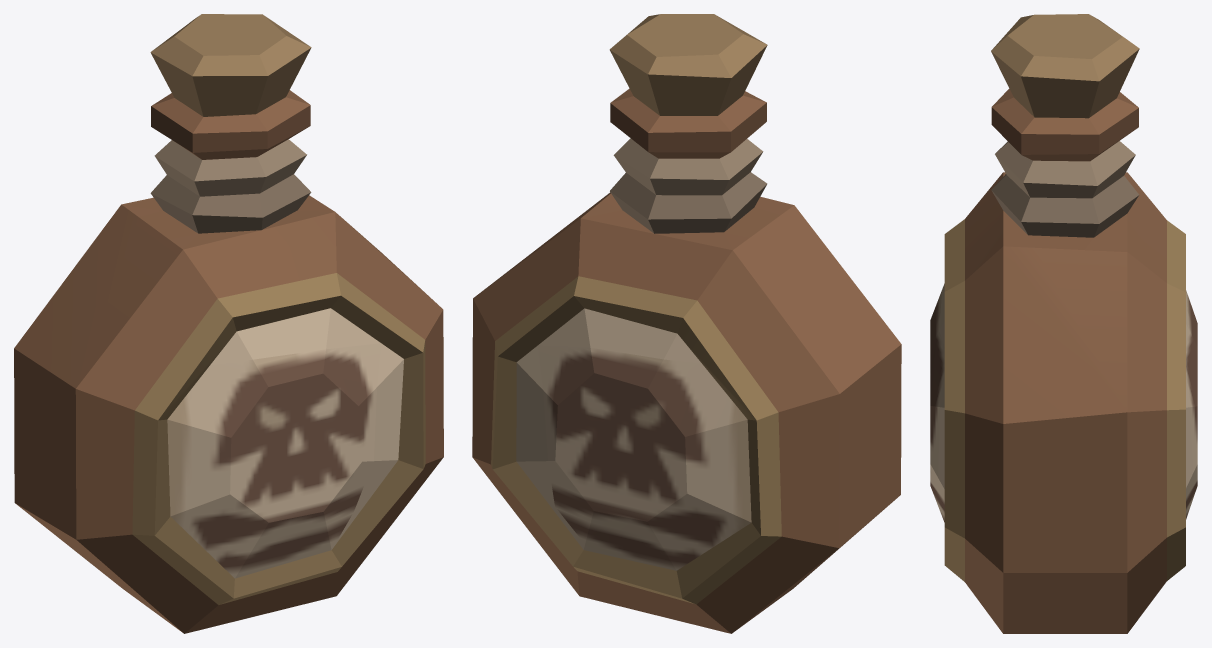
The model's file is SM_Prop_Bottle_05.fbx.
The picture shows the model from 3 angles, left to right: view 1: azimuth 30°, elevation 25°; view 2: azimuth 150°, elevation 25°; view 3: azimuth 270°, elevation 25°; orthographic projection.
Visible parts, largest first — view 1: SM_Prop_Bottle_05; view 2: SM_Prop_Bottle_05; view 3: SM_Prop_Bottle_05.
Boxes of the visible parts, <box> form: SM_Prop_Bottle_05: <box>14,14,443,633</box>; SM_Prop_Bottle_05: <box>472,14,901,633</box>; SM_Prop_Bottle_05: <box>930,14,1197,633</box>.
Bounding box in the file's own units: 27.67 × 40.13 × 17.28.
